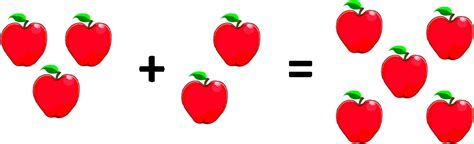apple: (28, 74, 83, 122), (422, 14, 474, 62), (176, 80, 230, 126), (62, 21, 114, 68), (332, 99, 386, 144), (332, 10, 385, 55), (211, 23, 263, 67), (1, 22, 49, 68), (381, 54, 428, 100), (424, 100, 474, 142)
